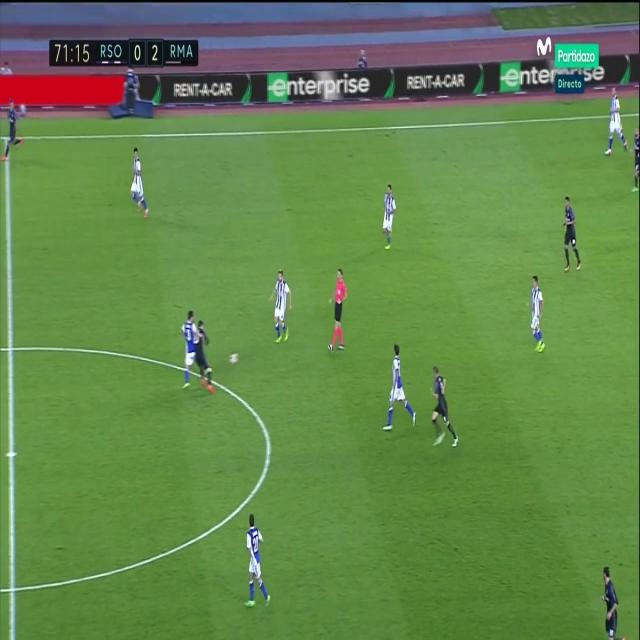Ball: (227, 348, 239, 368)
Player: (379, 339, 418, 435), (244, 511, 272, 612), (428, 367, 461, 452), (268, 267, 294, 345), (127, 143, 152, 220), (604, 84, 628, 160), (562, 193, 584, 273), (599, 561, 621, 640), (195, 315, 215, 394), (2, 100, 27, 162), (530, 272, 548, 356), (182, 308, 198, 391), (381, 184, 397, 252), (631, 124, 640, 192)
Referee: (326, 265, 349, 357)
